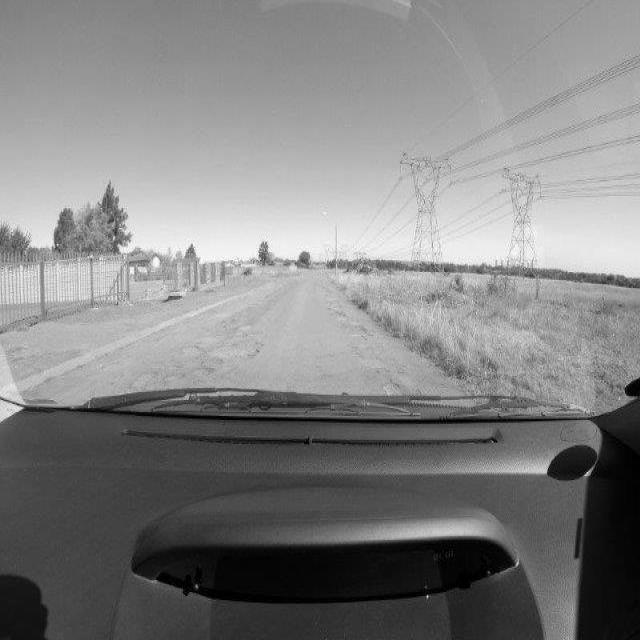lubang: (130, 362, 184, 388), (215, 333, 269, 358), (377, 378, 408, 394), (183, 340, 206, 358), (192, 364, 216, 381)
